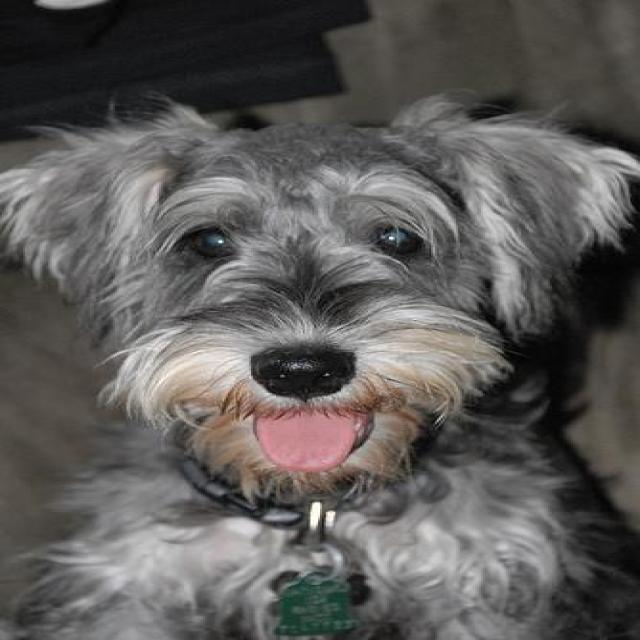adult_dog: (0, 99, 640, 634)
